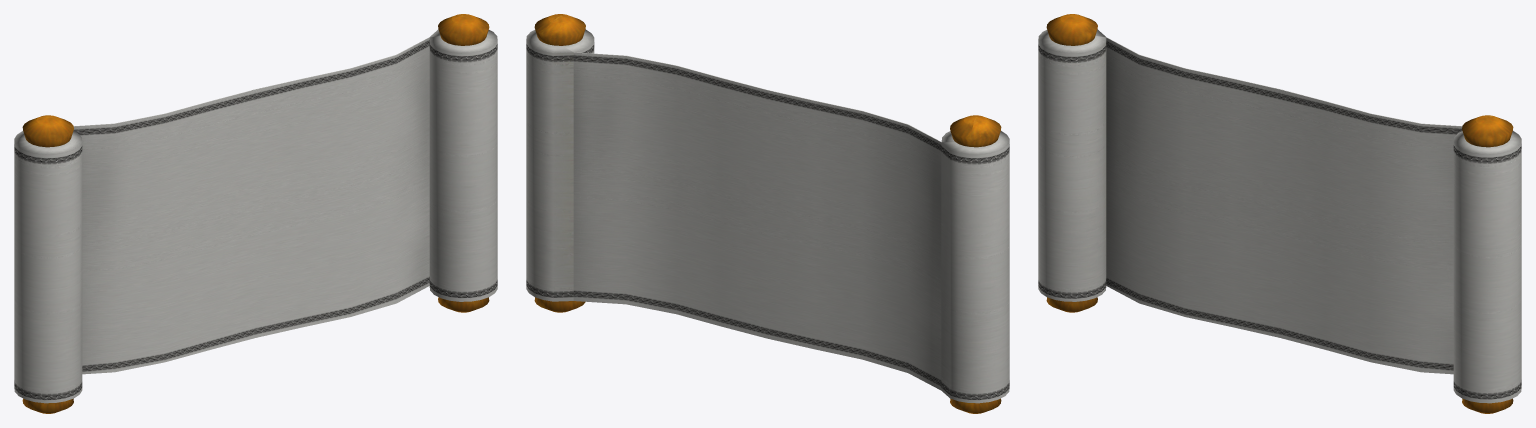
The model's file is Scroll.fbx.
3 renders of one model, left to right at view 1: azimuth 30°, elevation 25°; view 2: azimuth 150°, elevation 25°; view 3: azimuth 330°, elevation 25°, orthographic.
Visible parts, largest first — view 1: pCylinder3; view 2: pCylinder3; view 3: pCylinder3.
Part boxes in pixels (x1,y1,x2,y2): pCylinder3: [14, 14, 497, 413]; pCylinder3: [526, 14, 1009, 413]; pCylinder3: [1038, 14, 1521, 413].
Bounding box in the file's own units: 16 × 9.53 × 2.
